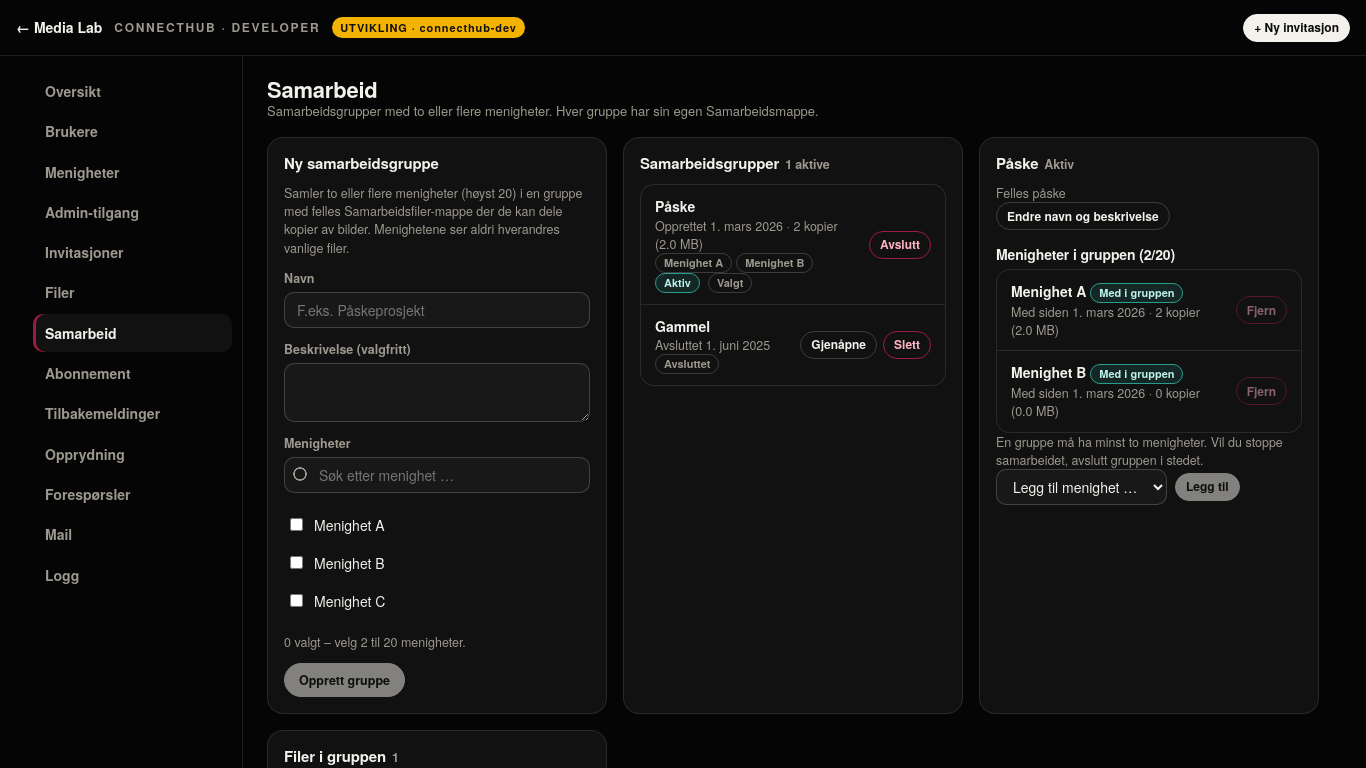
Test: Samarbeid (ADM-08) › sletting av avsluttet gruppe viser antall kopier i bekreftelsen og går via serveren
Click the button "Slett" at (907, 345), box [883, 331, 931, 359]
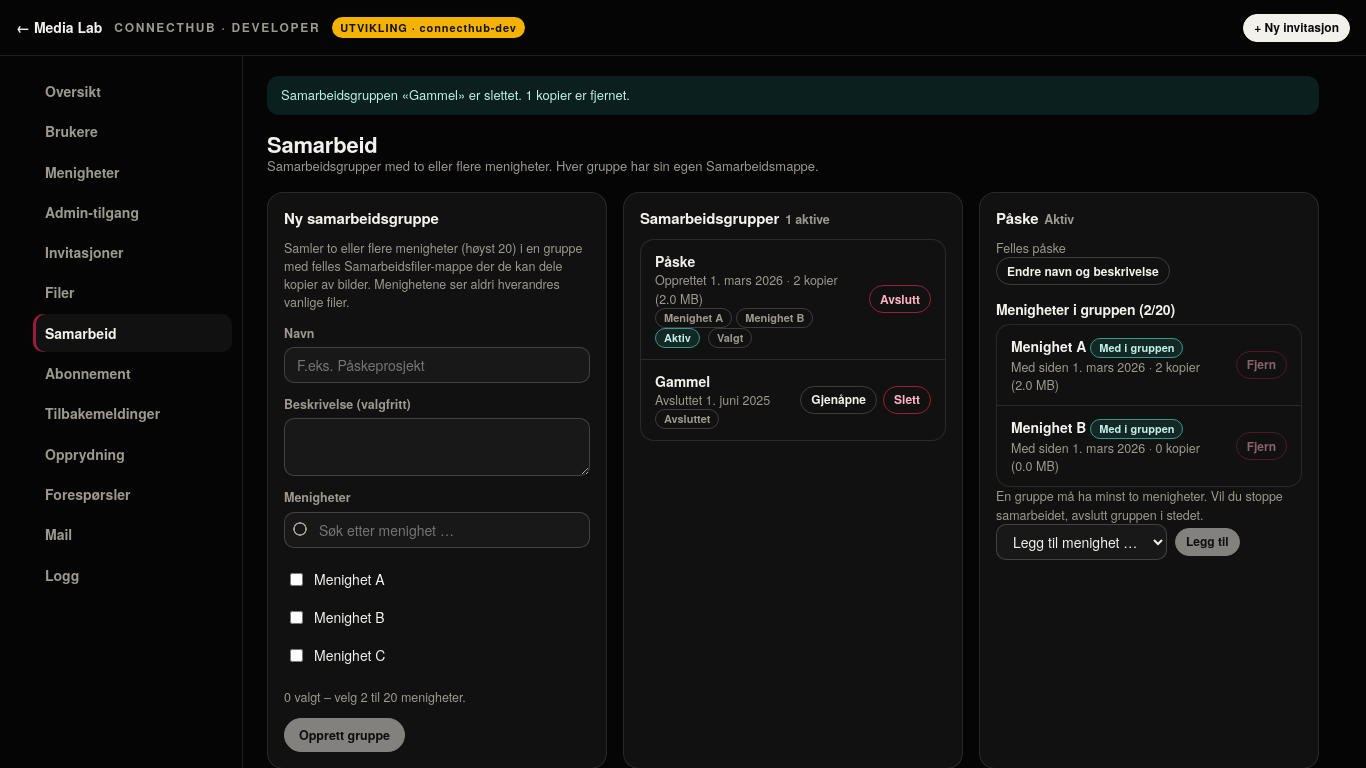
Now the message reads "Samarbeidsgruppen «Gammel» er slettet. 1 kopier er fjernet.", box [281, 85, 630, 104]
